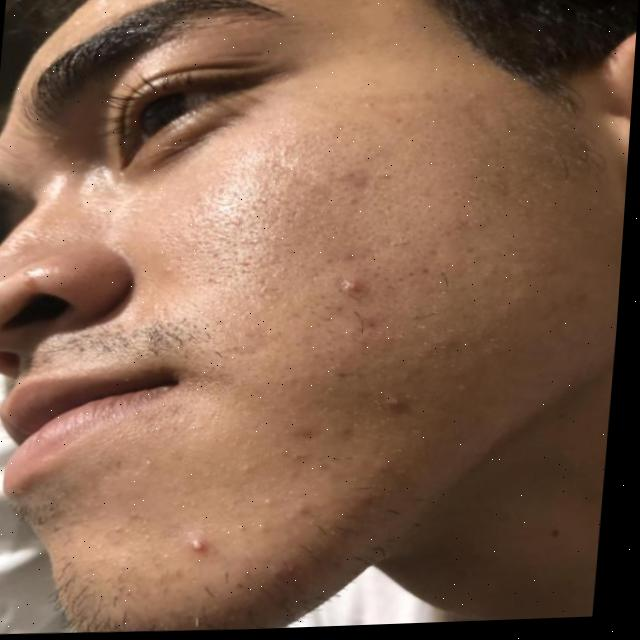Acne: (187, 530, 214, 553), (336, 275, 357, 297)
